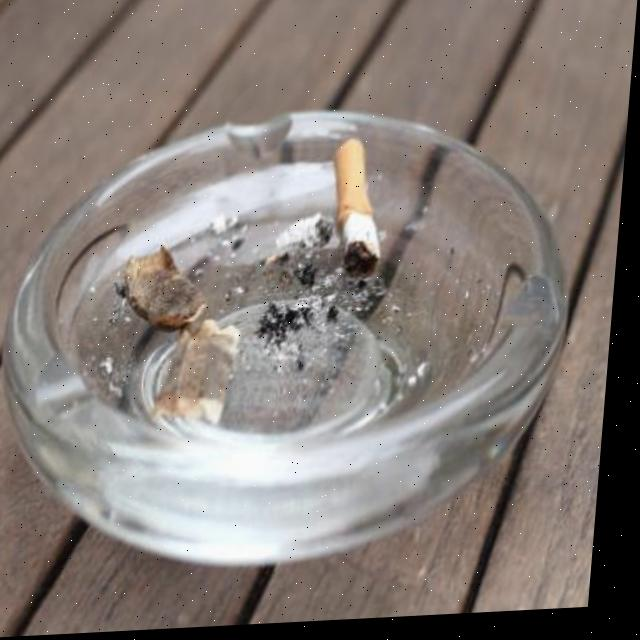cigarette: (329, 139, 395, 290)
